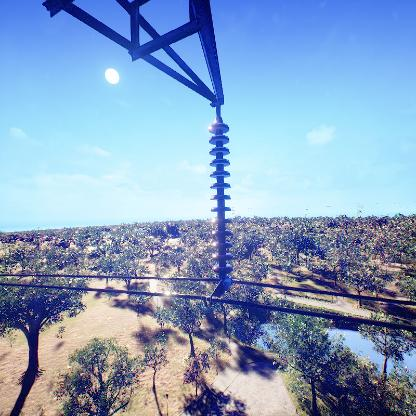insulator: (205, 121, 235, 277)
